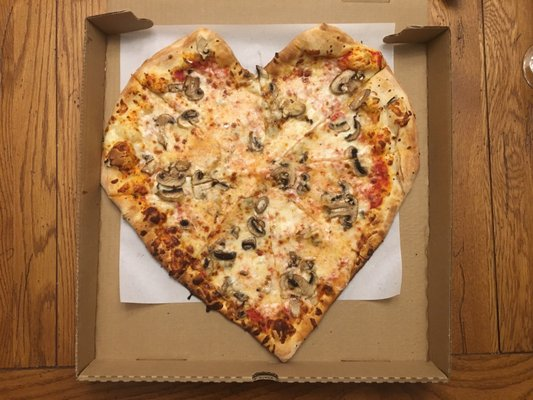curry: (5, 1, 487, 365)
sandwich: (101, 24, 417, 362)
